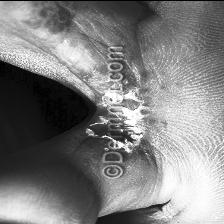Toxin: (124, 60, 156, 160), (86, 78, 108, 151), (30, 1, 74, 31)
